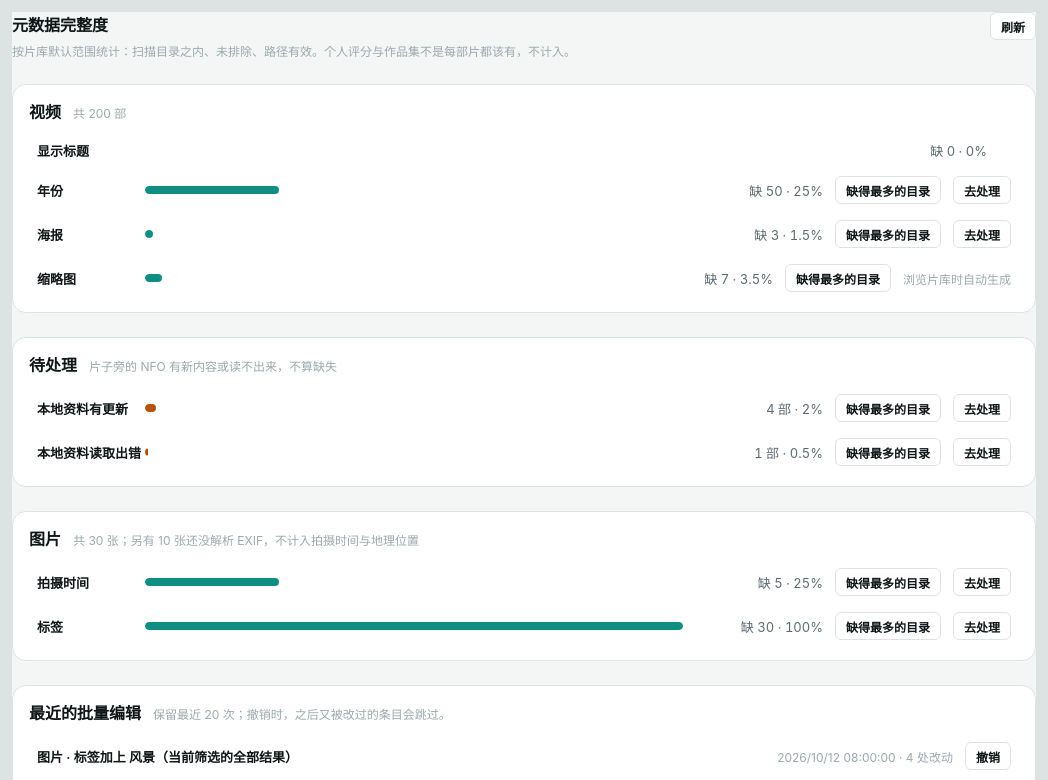
Test: 最近的批量编辑（D-MC-05） › 已经撤销过时给出可读的提示
Click the button with test id "batch-edit-history-undo" at (988, 756), box [965,742,1011,770]
(page scrolled)
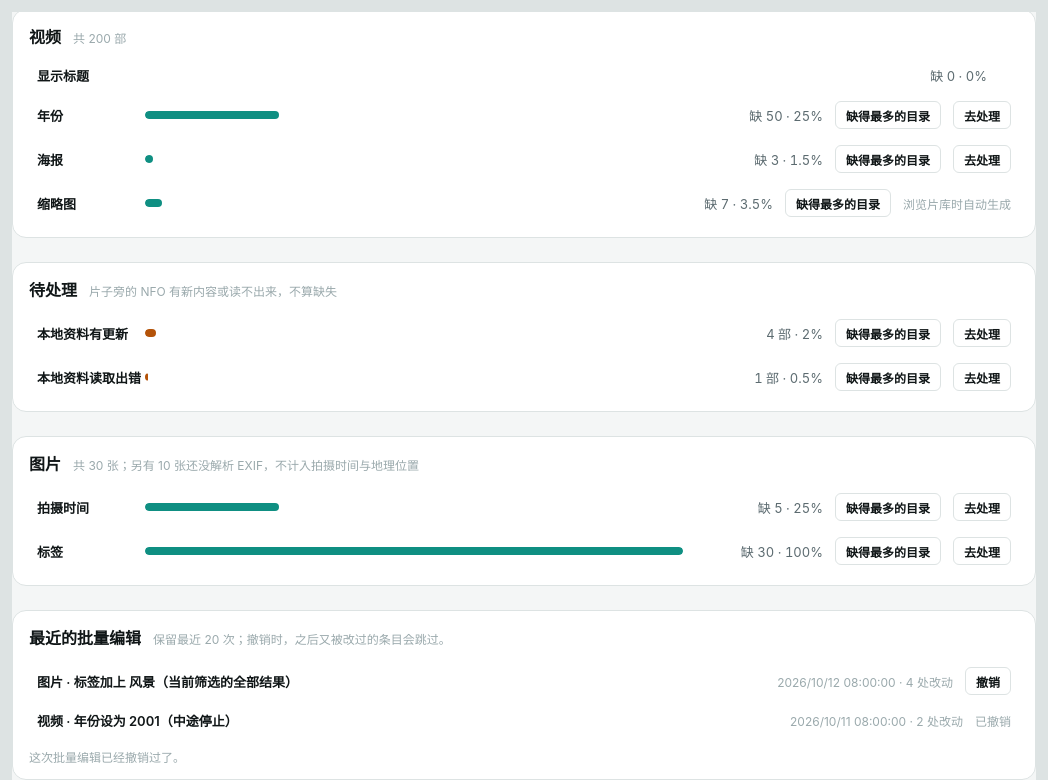
Check: the message with test id "batch-edit-history-notice" reads "这次批量编辑已经撤销过了。", box [29,750,185,765]
